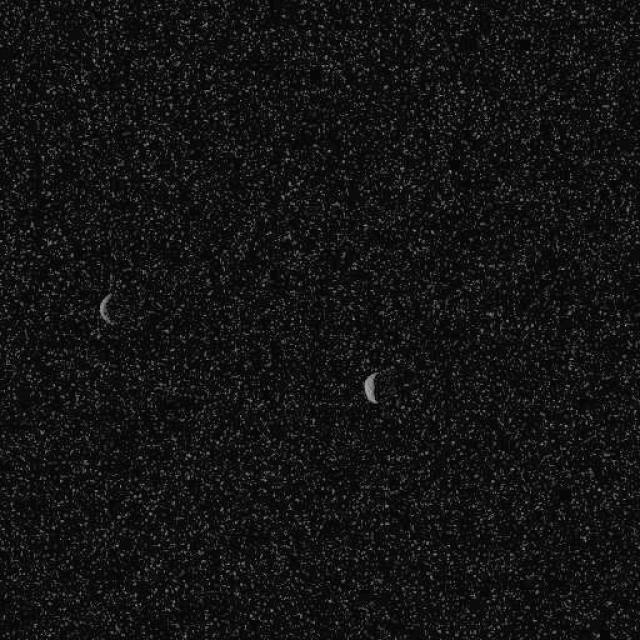D2: (361, 370, 380, 404), (96, 291, 115, 324)
